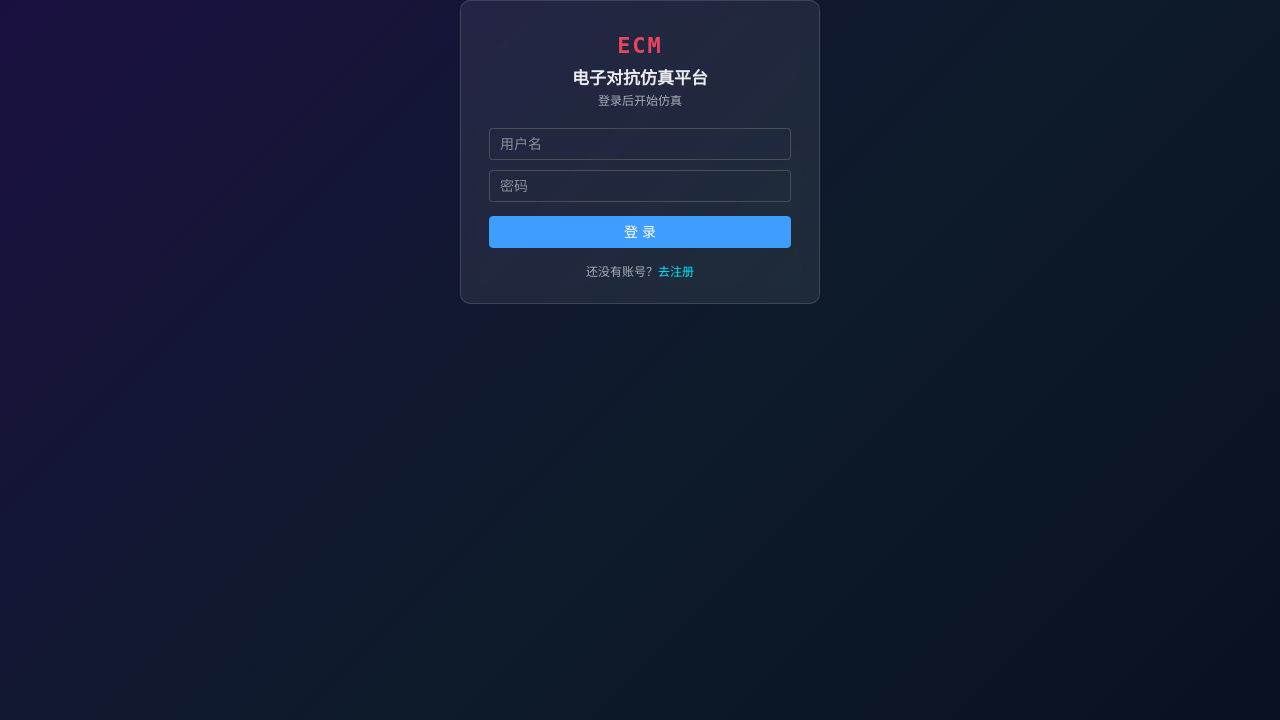
Test: LoginView › 登录失败时在表单旁展示后端错误文案且不跳转
In the field with placeholder "用户名": {"x": 640, "y": 144} [500,129,780,159], type "alice"
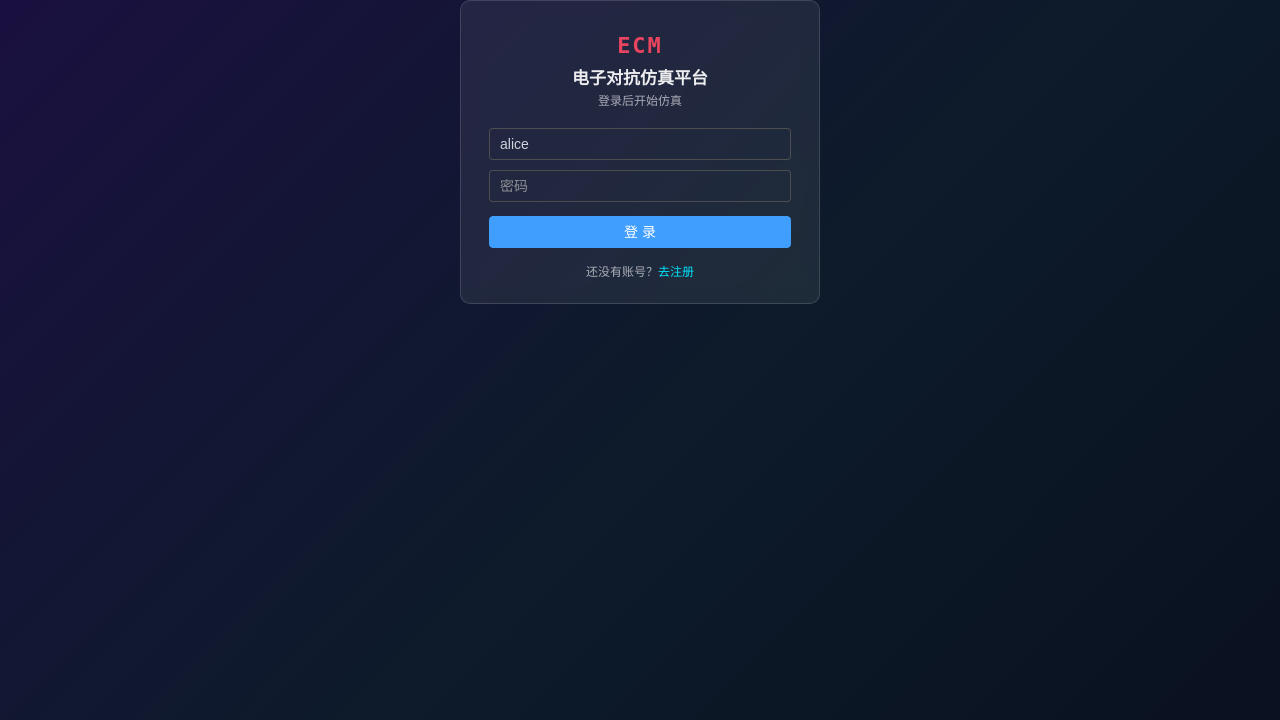
In the password field with placeholder "密码": {"x": 640, "y": 186} [500,171,780,201], type "wrong-pass"
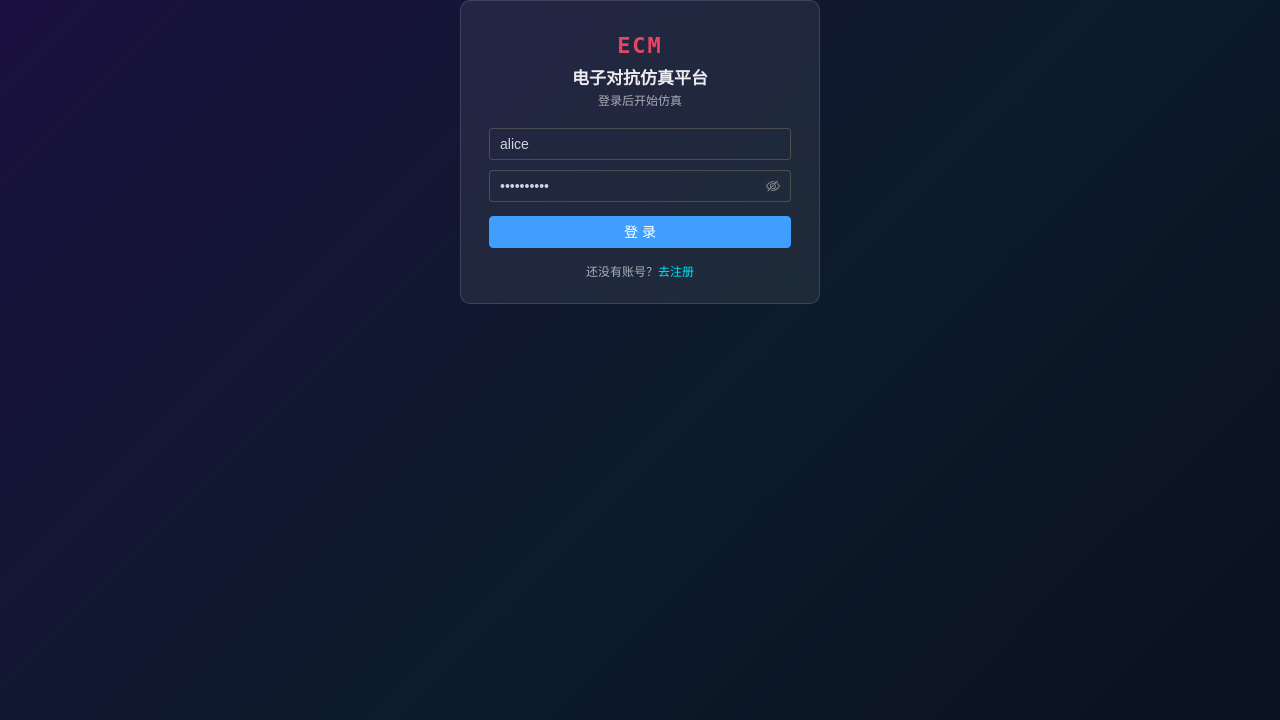
Click the button with class "submit-btn": {"x": 640, "y": 232} [489,216,791,248]
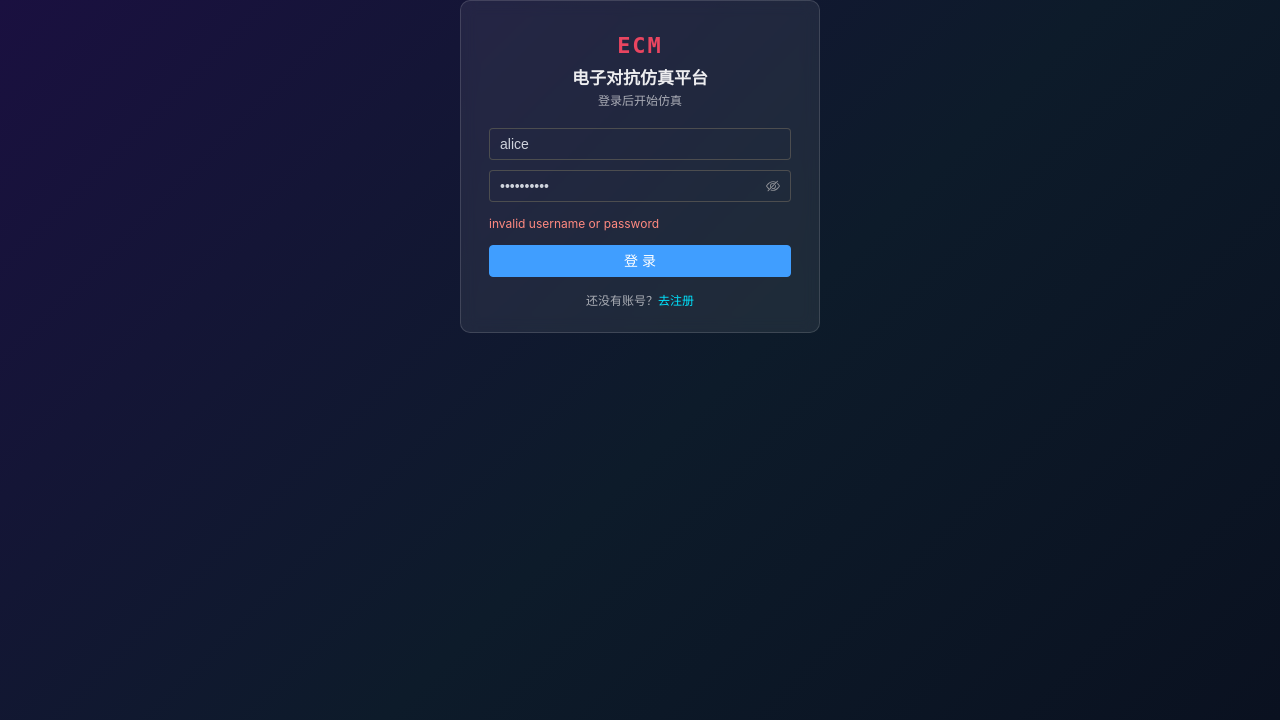
Expected: the message with class "form-error" reads "invalid username or password", [489,216,659,231]
